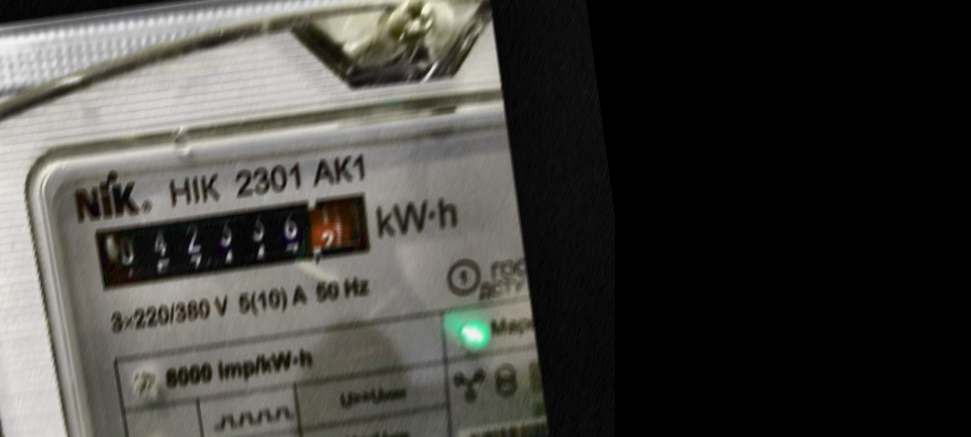0: (115, 235, 135, 265)
1: (316, 203, 330, 226)
2: (182, 222, 202, 253), (317, 228, 335, 248)
3: (245, 211, 265, 242), (214, 217, 232, 247)
4: (148, 226, 169, 257)
6: (279, 208, 300, 240)
screen: (80, 179, 385, 299)
